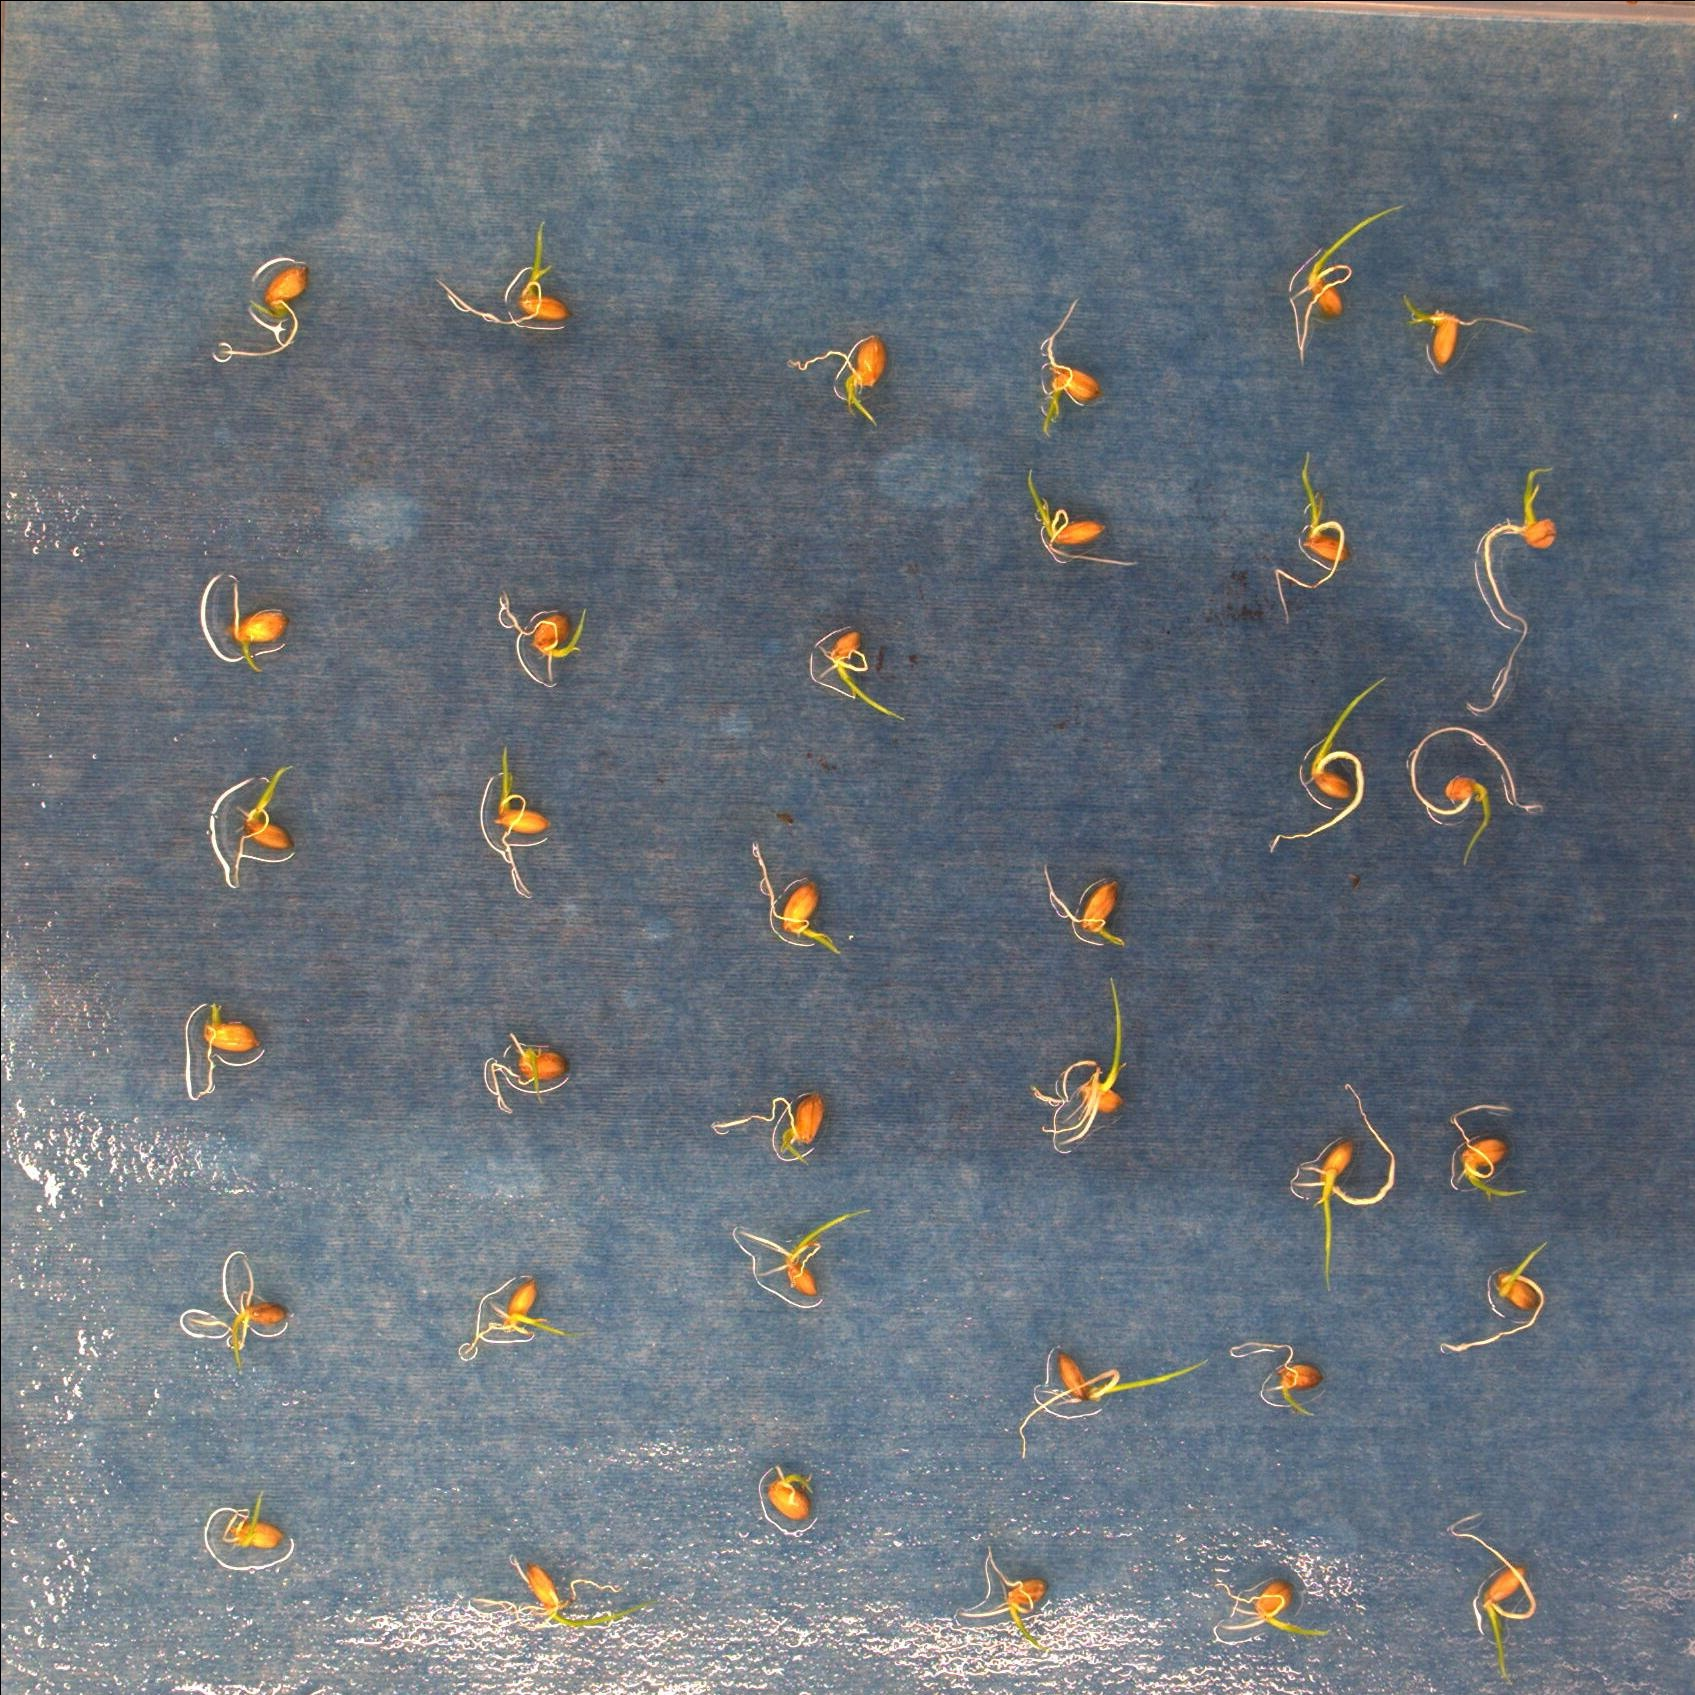not sprout: (175, 1245, 290, 1374), (224, 256, 309, 365), (188, 1001, 267, 1094), (213, 1496, 292, 1557), (757, 1475, 816, 1529)
sprout: (1267, 667, 1426, 851), (1461, 447, 1565, 712), (1291, 1074, 1416, 1276), (1281, 192, 1412, 365), (1004, 1346, 1212, 1451), (1006, 450, 1146, 588), (1029, 983, 1138, 1159), (459, 1555, 636, 1653), (1409, 730, 1538, 861), (424, 220, 570, 337), (1440, 1513, 1541, 1679), (1028, 286, 1125, 453), (1444, 1229, 1568, 1357), (1205, 1562, 1354, 1666), (1273, 450, 1360, 622), (792, 626, 931, 722), (705, 1077, 834, 1180), (778, 331, 893, 439), (740, 843, 847, 959), (1222, 1333, 1349, 1430), (962, 1534, 1071, 1644), (737, 1212, 861, 1302), (1405, 301, 1546, 374), (477, 1042, 577, 1141), (477, 761, 553, 889), (230, 764, 306, 889), (1447, 1097, 1537, 1203), (459, 1277, 570, 1354), (484, 587, 584, 669), (1040, 861, 1127, 948), (222, 588, 286, 677)
